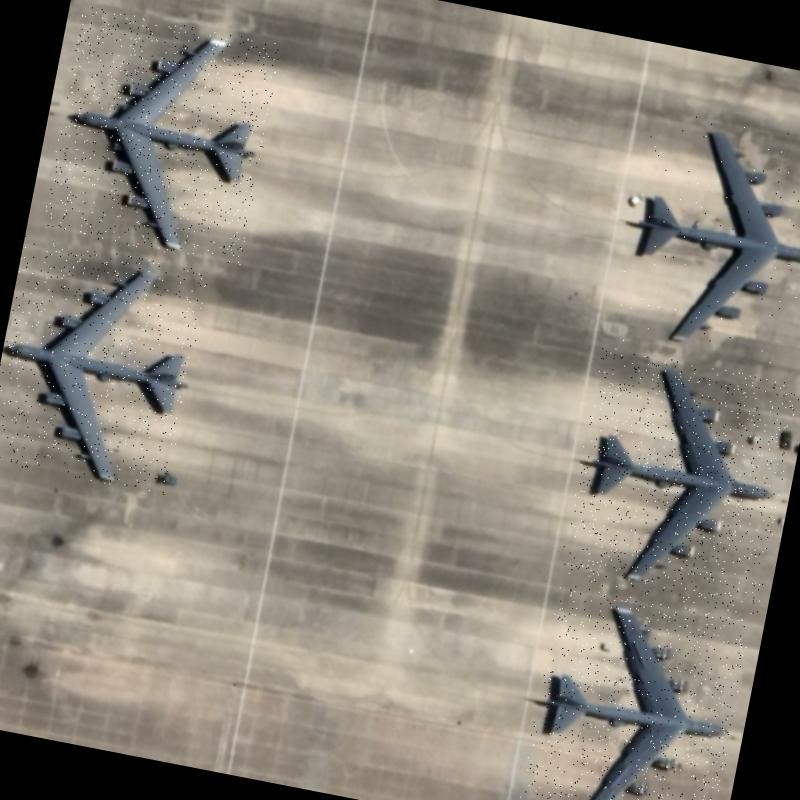A8: (557, 346, 800, 616), (40, 5, 283, 267), (0, 235, 209, 495), (609, 105, 800, 380), (514, 583, 753, 800)
